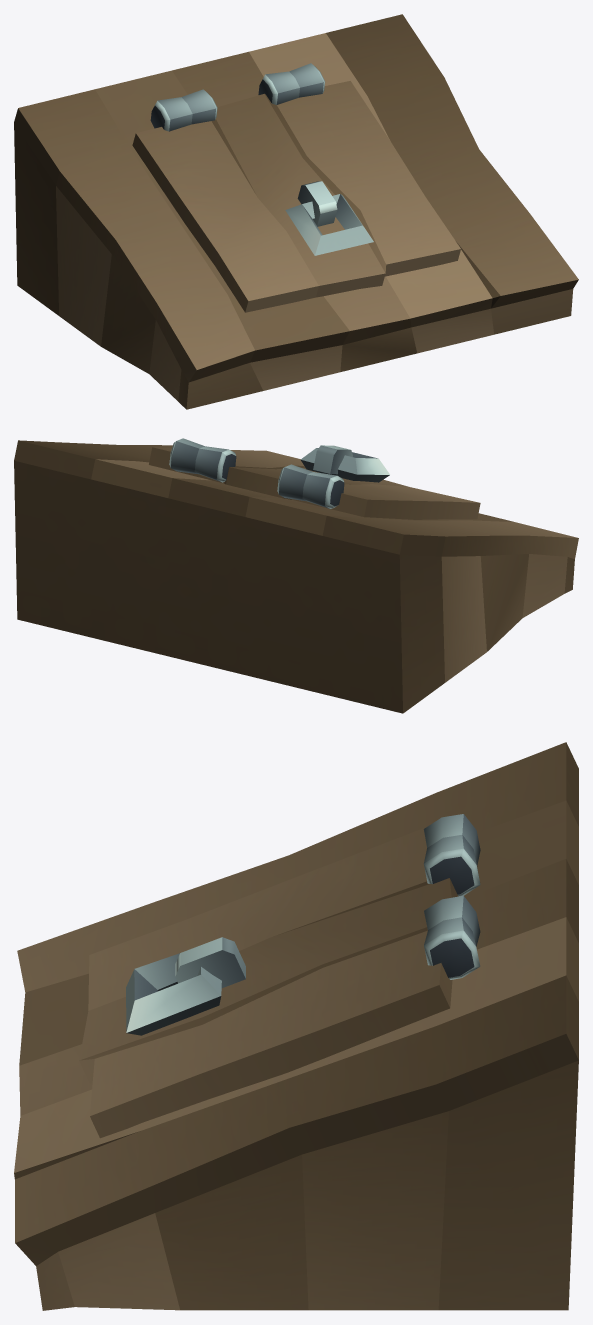
The model's file is cellar.fbx.
3 renders of one model, top to bottom at view 1: azimuth 30°, elevation 25°; view 2: azimuth 150°, elevation 25°; view 3: azimuth 270°, elevation 25°, orthographic. The views are drawn at different scales.
Visible parts, largest first — view 1: cellar; view 2: cellar; view 3: cellar.
Boxes of the visible parts, box(x1,y1,x2,y2) form: cellar: box(14, 14, 578, 409); cellar: box(14, 438, 578, 713); cellar: box(14, 742, 578, 1310).
Bounding box in the file's own units: 272 × 125 × 223.
